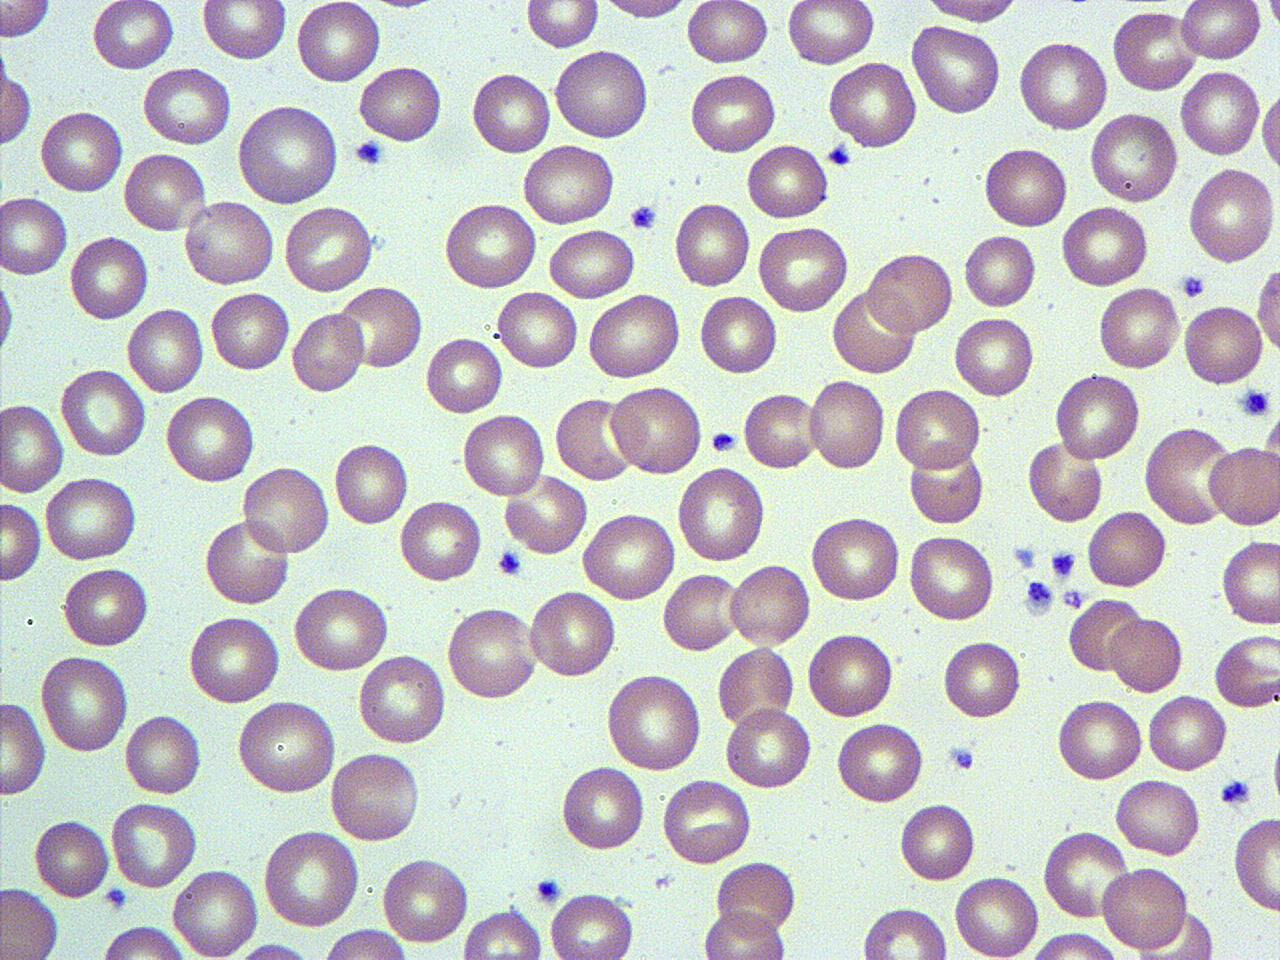Platelets: (1237, 384, 1273, 420), (1024, 578, 1056, 617), (1047, 546, 1079, 580), (351, 138, 385, 166), (1219, 778, 1253, 806), (946, 742, 976, 772), (534, 875, 564, 905), (628, 202, 658, 232), (496, 546, 522, 578), (1179, 271, 1207, 300), (708, 428, 738, 454), (1010, 543, 1040, 569), (824, 143, 852, 170), (1059, 586, 1087, 611)
RBC: (236, 101, 342, 206), (236, 696, 339, 798), (262, 826, 362, 930), (605, 670, 704, 774), (36, 652, 131, 756), (674, 462, 768, 567), (1185, 163, 1277, 268), (445, 602, 540, 702), (608, 382, 706, 478), (186, 612, 284, 708), (552, 48, 652, 142), (1142, 424, 1234, 526), (578, 510, 679, 602), (290, 584, 393, 674), (908, 21, 1004, 117), (441, 199, 540, 292), (584, 291, 684, 383), (240, 461, 332, 560), (1087, 107, 1179, 206), (328, 750, 424, 844), (1016, 37, 1110, 133), (42, 472, 141, 563), (181, 196, 276, 290), (756, 222, 852, 314), (804, 628, 896, 724), (163, 392, 256, 486), (659, 775, 753, 868), (528, 586, 621, 680), (827, 58, 920, 151), (808, 514, 902, 606), (170, 864, 260, 960), (520, 140, 618, 228), (907, 530, 997, 625), (282, 202, 374, 294), (356, 652, 446, 746), (1058, 201, 1152, 291), (202, 514, 291, 609), (1042, 826, 1130, 922), (1053, 369, 1141, 464), (109, 798, 199, 890), (1100, 862, 1190, 954), (1055, 694, 1147, 784), (380, 856, 471, 946), (60, 364, 146, 459), (952, 870, 1042, 960), (37, 105, 126, 196), (1110, 6, 1202, 94), (833, 718, 924, 806), (1178, 66, 1262, 161), (807, 376, 888, 474), (723, 705, 814, 792), (893, 384, 981, 473), (982, 142, 1070, 231), (503, 469, 590, 559), (141, 63, 234, 147), (864, 250, 954, 336), (560, 762, 646, 852), (1113, 774, 1203, 860), (340, 281, 425, 372), (952, 311, 1037, 402), (688, 71, 780, 155), (67, 231, 150, 324), (126, 303, 207, 398), (672, 196, 753, 291), (295, 0, 383, 87), (61, 564, 150, 650), (1181, 300, 1265, 390), (356, 63, 446, 147), (730, 559, 812, 651), (460, 412, 546, 499), (1096, 285, 1182, 372), (332, 437, 412, 530), (121, 149, 207, 235), (744, 138, 830, 224), (1085, 504, 1169, 592), (399, 498, 484, 584), (553, 394, 636, 482), (123, 709, 204, 799), (469, 69, 552, 156), (716, 643, 797, 732), (546, 224, 638, 302), (696, 292, 781, 376), (32, 814, 113, 902), (942, 636, 1023, 724), (1146, 690, 1230, 774), (210, 289, 292, 375), (1024, 438, 1104, 526), (496, 288, 580, 371), (424, 332, 505, 418), (898, 798, 978, 884), (659, 569, 738, 655), (908, 442, 987, 527), (740, 388, 819, 473), (290, 308, 366, 396), (0, 398, 66, 498), (716, 858, 798, 938), (547, 888, 637, 960), (1207, 440, 1279, 530), (90, 0, 177, 74), (1108, 612, 1184, 696), (962, 230, 1039, 312), (0, 191, 70, 279), (785, 0, 877, 66), (1066, 596, 1142, 674), (685, 0, 770, 69), (1220, 535, 1280, 626), (1179, 0, 1263, 65), (1213, 630, 1279, 711), (199, 1, 286, 62), (858, 904, 950, 958), (1232, 814, 1280, 914), (0, 700, 49, 797), (1, 884, 61, 960), (700, 908, 790, 958), (460, 906, 542, 960), (524, 0, 601, 52), (0, 499, 45, 585), (97, 922, 189, 960), (1025, 928, 1129, 960), (320, 924, 412, 960), (916, 0, 1026, 27), (0, 65, 33, 149), (1254, 261, 1280, 358), (596, 0, 699, 23), (1, 0, 55, 42), (1258, 80, 1280, 182)
